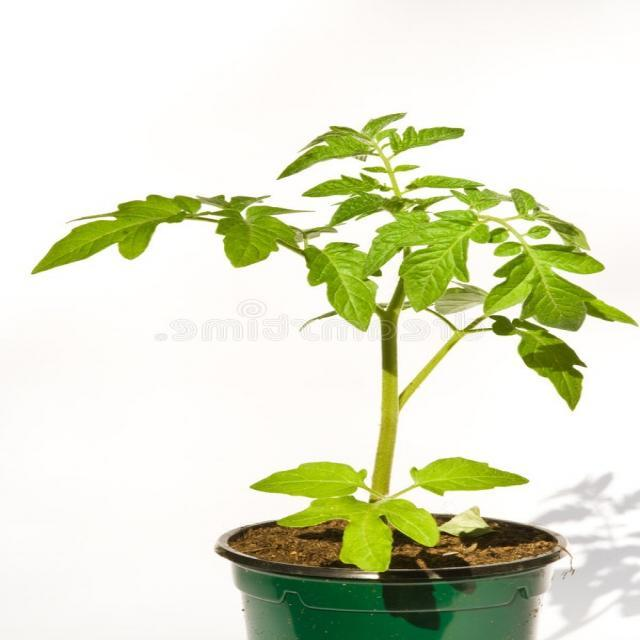tomato: (32, 114, 631, 573), (279, 113, 404, 178), (418, 127, 464, 145), (406, 216, 412, 219)
